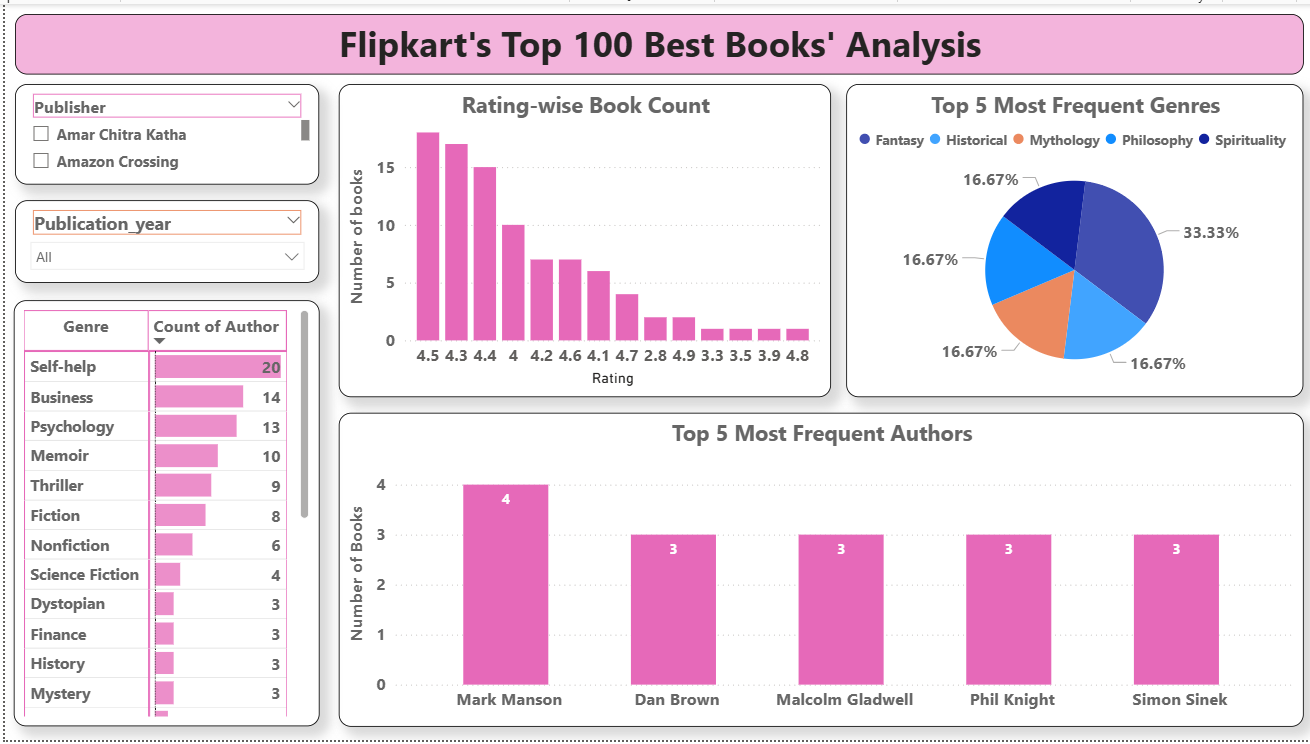

The page's visual inventory and layout, read from the dashboard file:
{"tool":"powerbi","page":{"name":"Flipkart","canvas":[1280,720],"ordinal":1},"visuals":[{"type":"columnChart","title":"Rating-wise Book Count","fields":{"Category":["flipkart_100_mustreads.Rating"],"Y":["CountNonNull(flipkart_100_mustreads.Title)"]},"box":[326.6,78.2,481.6,306],"z":0},{"type":"pieChart","title":"Top 5 Most Frequent Genres","fields":{"Category":["flipkart_100_mustreads.Genre"],"Y":["CountNonNull(flipkart_100_mustreads.Title)"]},"box":[823.3,78.2,447.3,306],"z":1000},{"type":"columnChart","title":"Top 5 Most Frequent Authors","fields":{"Category":["flipkart_100_mustreads.Author"],"Y":["CountNonNull(flipkart_100_mustreads.Title)"]},"box":[326.6,399.3,944.1,307.4],"z":2000},{"type":"pivotTable","fields":{"Rows":["flipkart_100_mustreads.Genre"],"Values":["CountNonNull(flipkart_100_mustreads.Author)"]},"box":[8.2,289.5,299.1,417.2],"z":3000},{"type":"slicer","fields":{"Values":["flipkart_100_mustreads.Publisher"]},"box":[9.6,78.2,297.8,98.8],"z":4000},{"type":"textbox","title":"Flipkart''s Top 100 Best Books'' Analysis","box":[9.6,9.6,1261.1,59],"z":5000},{"type":"slicer","fields":{"Values":["flipkart_100_mustreads.Publication_year"]},"box":[9.6,192.1,297.8,81],"z":6000}]}

Visuals, with their boxes in screenshot pixels (x1, y1, x2, y2), scaled from the page's 1280x720 canvas onto the 1310x744 screenshot:
"Rating-wise Book Count" columnChart: region(334, 81, 827, 397)
"Top 5 Most Frequent Genres" pieChart: region(843, 81, 1300, 397)
"Top 5 Most Frequent Authors" columnChart: region(334, 413, 1300, 730)
pivotTable - flipkart_100_mustreads.Genre x CountNonNull(flipkart_100_mustreads.Author): region(8, 299, 315, 730)
slicer - flipkart_100_mustreads.Publisher: region(10, 81, 315, 183)
"Flipkart''s Top 100 Best Books'' Analysis" textbox: region(10, 10, 1300, 71)
slicer - flipkart_100_mustreads.Publication_year: region(10, 199, 315, 282)
